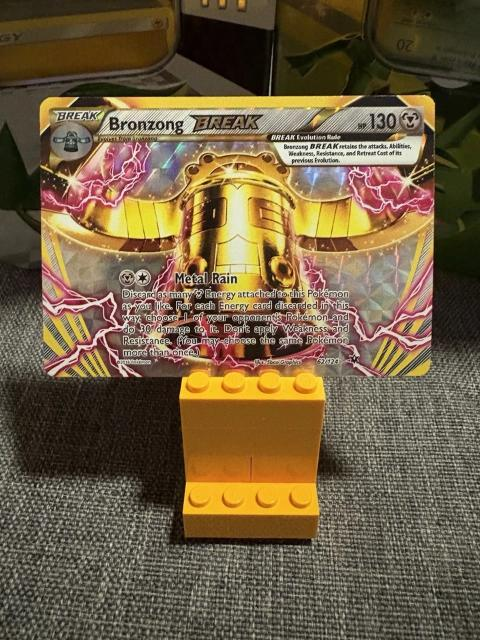Card: (37, 91, 439, 381)
Name: (105, 112, 271, 134)
